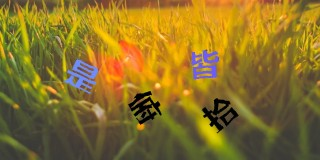俯: (127, 90, 161, 126)
拾: (201, 97, 240, 134)
是: (66, 57, 99, 94)
皆: (190, 49, 221, 81)
